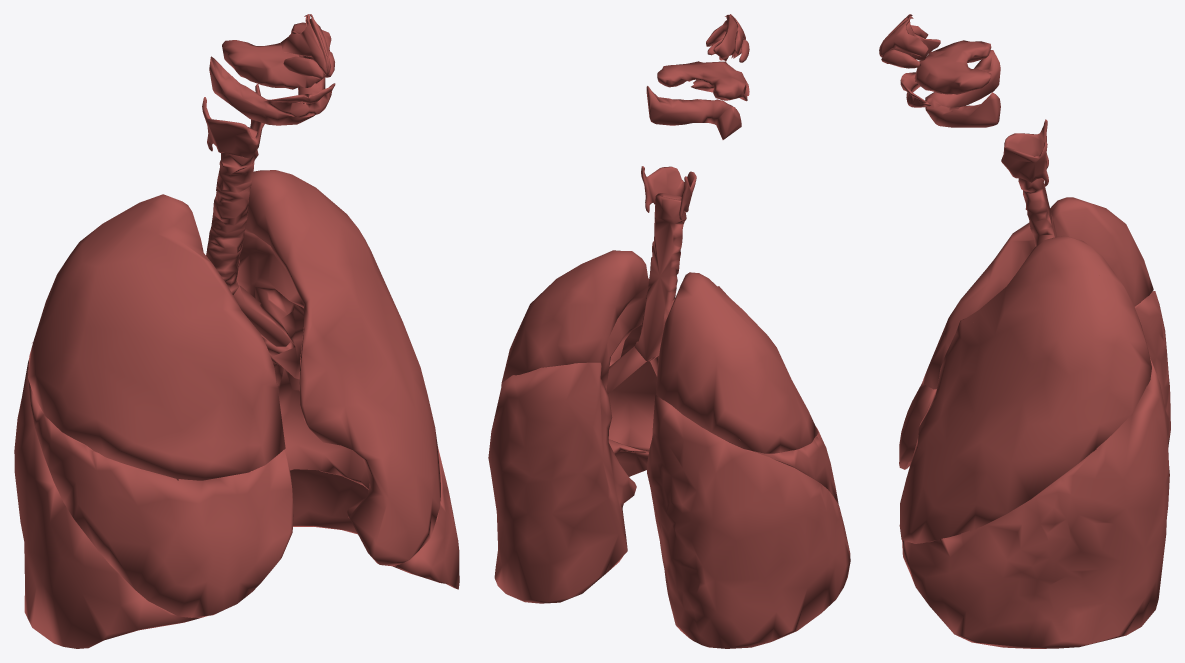
Rendered from respiratory.glb.
The picture shows the model from 3 angles, left to right: view 1: azimuth 30°, elevation 25°; view 2: azimuth 150°, elevation 25°; view 3: azimuth 270°, elevation 25°; orthographic projection. The views are drawn at different scales.
Parts seen in each view (by area): view 1: FMA7333, FMA7370, FMA7383, FMA7337, FMA7371, FMA7394, FMA59763, FMA59764, FMA71704, FMA55099, FMA7409, FMA59815nsn; view 2: FMA7337, FMA7371, FMA7333, FMA7370, FMA7394, FMA59764, FMA59763, FMA7383, FMA55099, FMA71704, FMA7409; view 3: FMA7370, FMA7371, FMA7333, FMA59763, FMA59764, FMA7337, FMA55099, FMA71704, FMA7394, FMA7383, FMA59815nsn.
Boxes of the visible parts, left/top/right/bottom form: FMA7333: left=28, top=194, right=285, bottom=480; FMA7370: left=236, top=170, right=440, bottom=566; FMA7383: left=28, top=379, right=293, bottom=617; FMA7337: left=14, top=360, right=206, bottom=648; FMA7371: left=269, top=352, right=459, bottom=589; FMA7394: left=206, top=127, right=258, bottom=294; FMA59763: left=222, top=22, right=331, bottom=89; FMA59764: left=209, top=56, right=325, bottom=125; FMA71704: left=281, top=14, right=334, bottom=79; FMA55099: left=202, top=84, right=264, bottom=158; FMA7409: left=32, top=283, right=290, bottom=346; FMA59815nsn: left=263, top=83, right=335, bottom=117; FMA7337: left=647, top=394, right=850, bottom=648; FMA7371: left=488, top=362, right=648, bottom=603; FMA7333: left=656, top=272, right=818, bottom=453; FMA7370: left=501, top=250, right=656, bottom=452; FMA7394: left=634, top=193, right=686, bottom=361; FMA59764: left=646, top=86, right=741, bottom=139; FMA59763: left=657, top=61, right=746, bottom=100; FMA7383: left=751, top=427, right=838, bottom=504; FMA55099: left=641, top=166, right=696, bottom=220; FMA71704: left=706, top=14, right=749, bottom=62; FMA7409: left=607, top=346, right=740, bottom=440; FMA7370: left=899, top=235, right=1151, bottom=543; FMA7371: left=902, top=357, right=1169, bottom=648; FMA7333: left=923, top=197, right=1153, bottom=389; FMA59763: left=914, top=40, right=991, bottom=94; FMA59764: left=925, top=50, right=1000, bottom=127; FMA7337: left=1135, top=291, right=1170, bottom=446; FMA55099: left=1001, top=119, right=1048, bottom=186; FMA71704: left=879, top=14, right=940, bottom=68; FMA7394: left=1018, top=156, right=1057, bottom=246; FMA7383: left=899, top=380, right=936, bottom=469; FMA59815nsn: left=900, top=72, right=930, bottom=107.
Size of the model in its own units: 0.2531 by 0.4079 by 0.1933.
